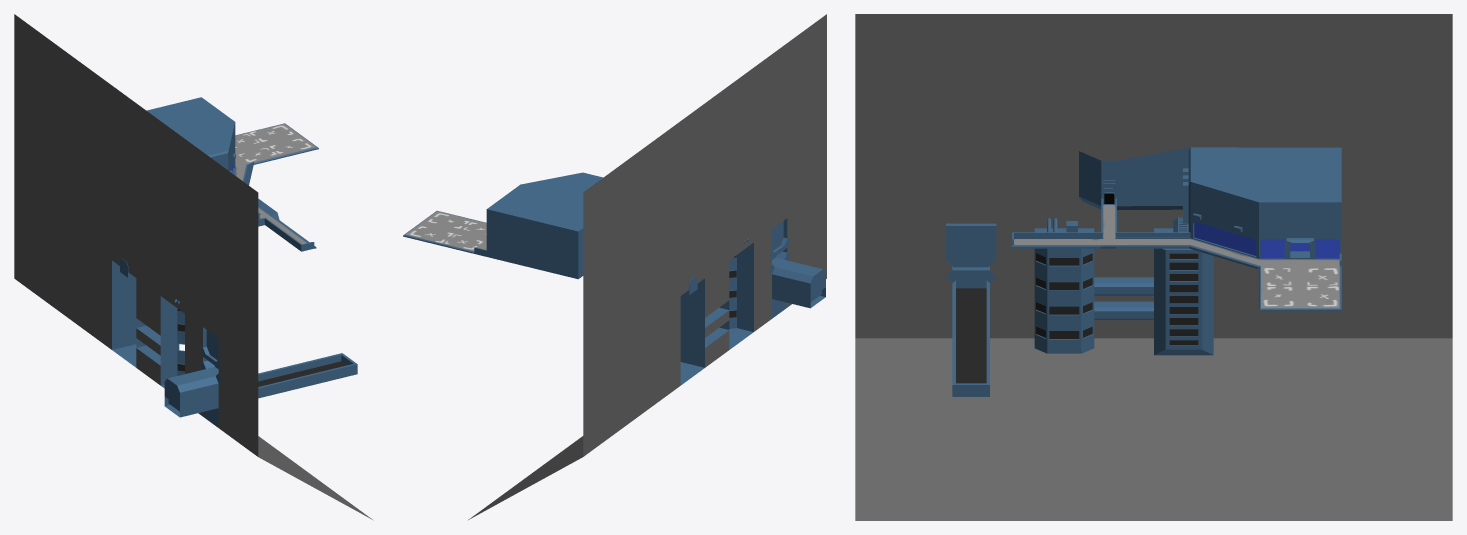
Rendered from cyberpunklevel.fbx.
3 views of the same model, side by side, from view 1: azimuth 30°, elevation 25°; view 2: azimuth 150°, elevation 25°; view 3: azimuth 270°, elevation 25° (orthographic). The views are drawn at different scales.
Visible parts, largest first — view 1: cyberpunklevel; view 2: cyberpunklevel; view 3: cyberpunklevel.
Part boxes in pixels (bbox=[...]): cyberpunklevel: bbox=[14, 14, 373, 520]; cyberpunklevel: bbox=[403, 14, 826, 519]; cyberpunklevel: bbox=[855, 14, 1452, 520].
Bounding box in the file's own units: 6048 × 7810 × 9667.
